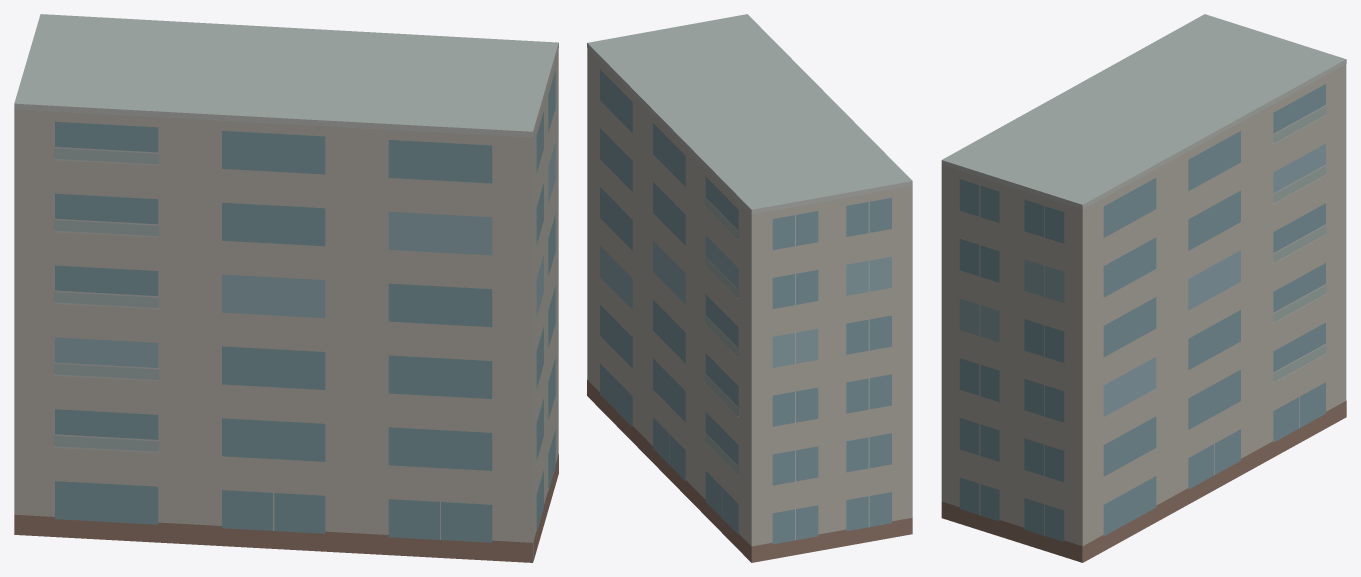
File: survey-upis-32631760.glb
3 renders of one model, left to right at view 1: azimuth 30°, elevation 25°; view 2: azimuth 150°, elevation 25°; view 3: azimuth 270°, elevation 25°, orthographic. The views are drawn at different scales.
Visible parts, largest first — view 1: survey-upis-32631760.tmp; view 2: survey-upis-32631760.tmp; view 3: survey-upis-32631760.tmp.
Part boxes in pixels (left/top/right/bottom): survey-upis-32631760.tmp: left=14, top=14, right=558, bottom=562; survey-upis-32631760.tmp: left=587, top=14, right=912, bottom=562; survey-upis-32631760.tmp: left=941, top=14, right=1346, bottom=562.
Bounding box in the file's own units: 20.93 × 18.3 × 18.76.
